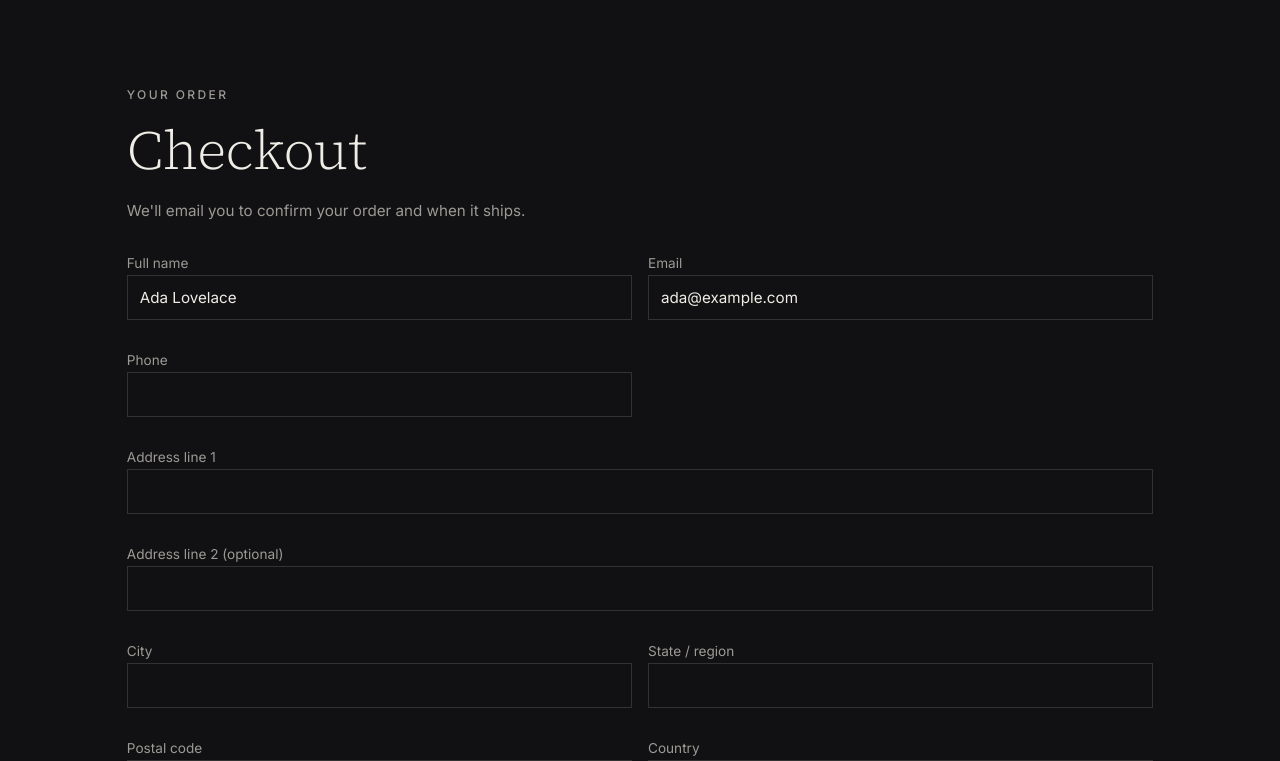
Test: CheckoutPage › navigates to /thanks/<uuid> using the id returned by createOrder
This screenshot has width=1280, height=761.
expect the field labelled "Full name" holds "Ada Lovelace": met, box [127,275,632,320]
Type "555-0100" into the field labelled "Phone". click: (379,395)
box: [127,372,632,417]
Type "1 Analytical Engine Way" into the field labelled "Address line 1". click: (640,492)
box: [127,469,1153,514]
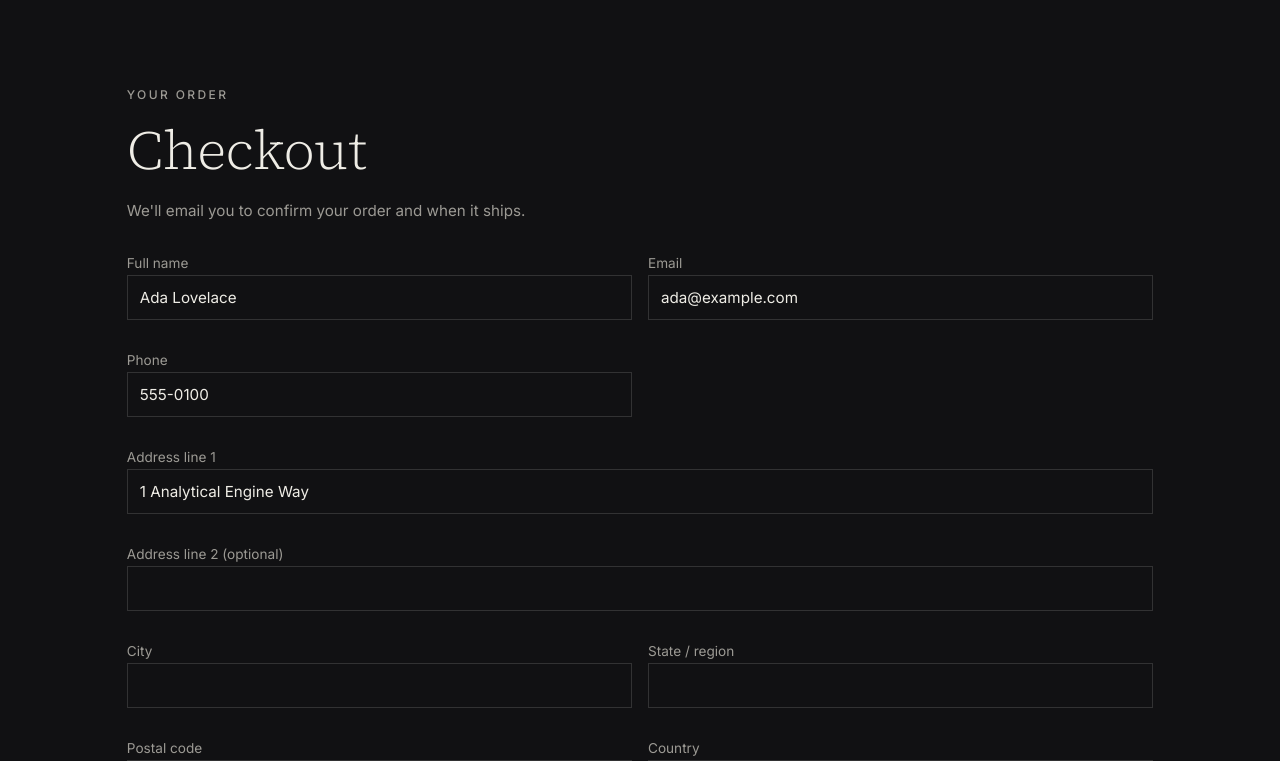
Type "London" into the field labelled "City". click: (379,686)
box: [127,663,632,708]
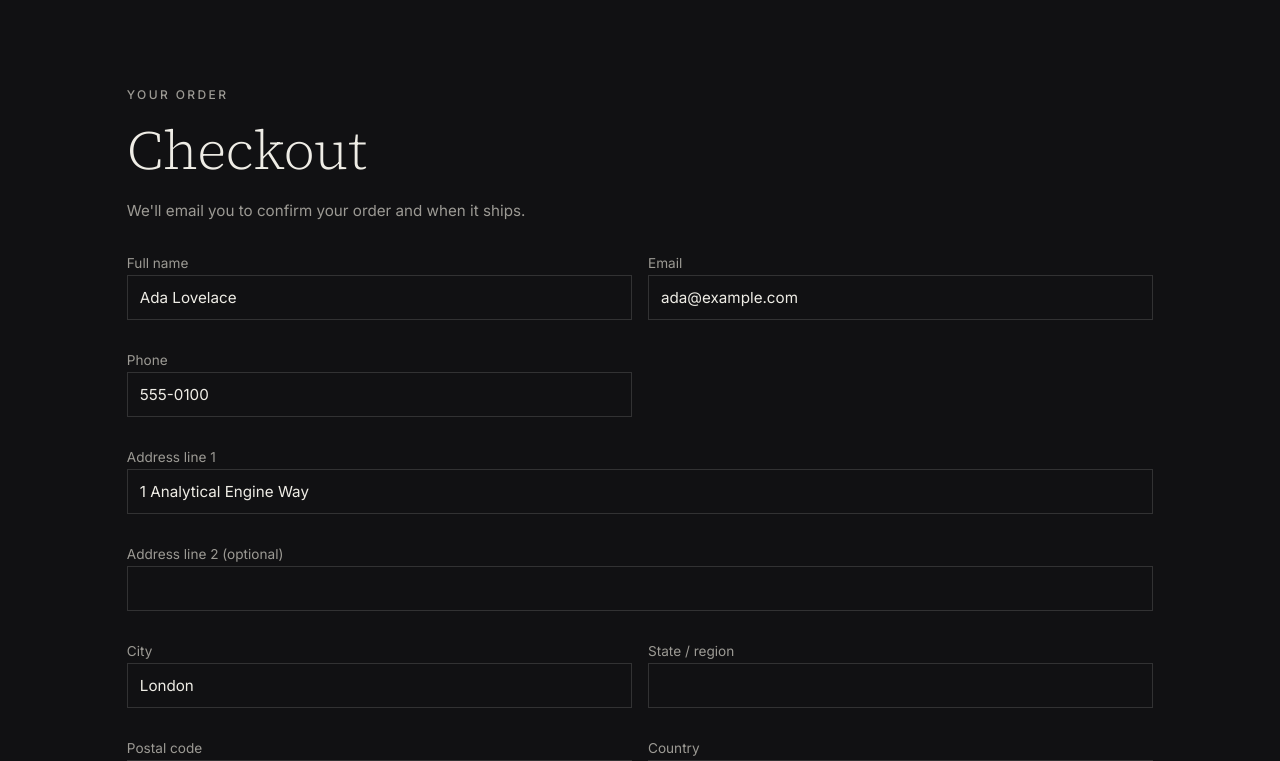
Type "LDN" into the field labelled "State / region". click: (901,686)
box: [648,663,1153,708]
(page scrolled)
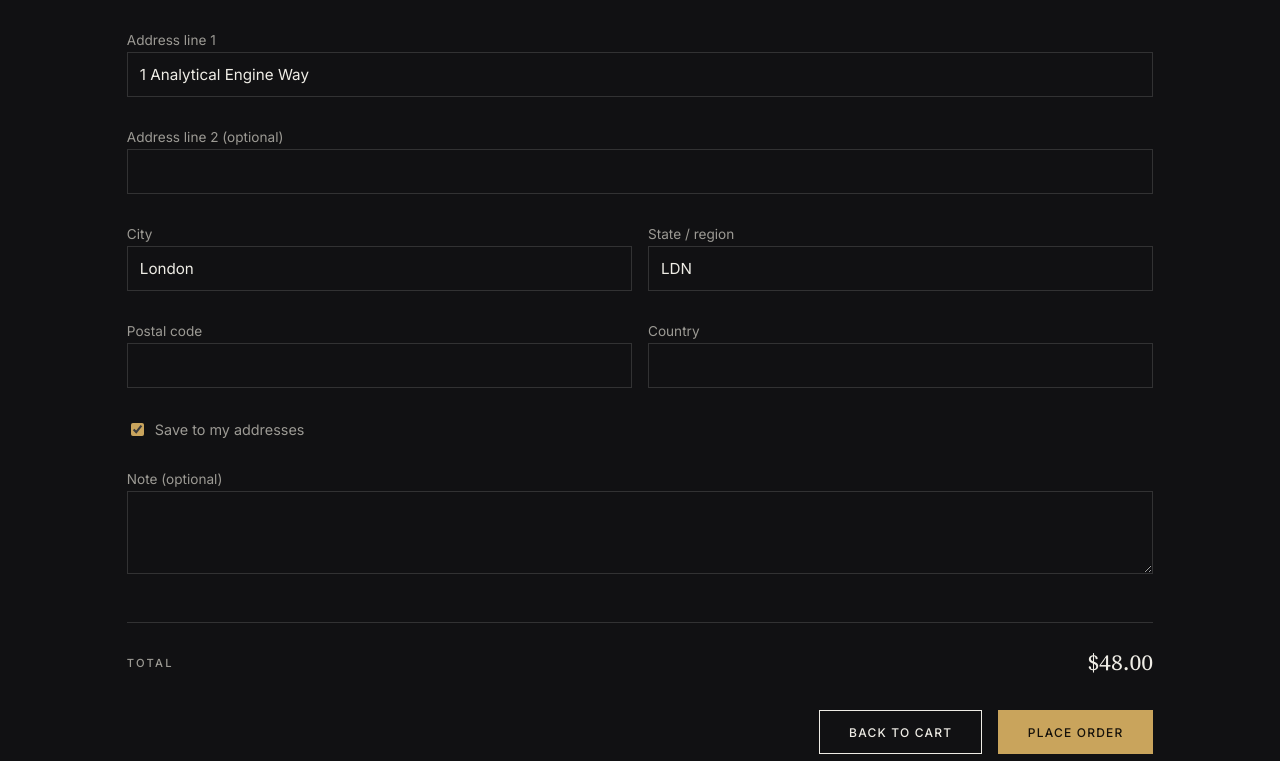
Type "W1A 1AA" into the field labelled "Postal code". click: (379,366)
box: [127,343,632,388]
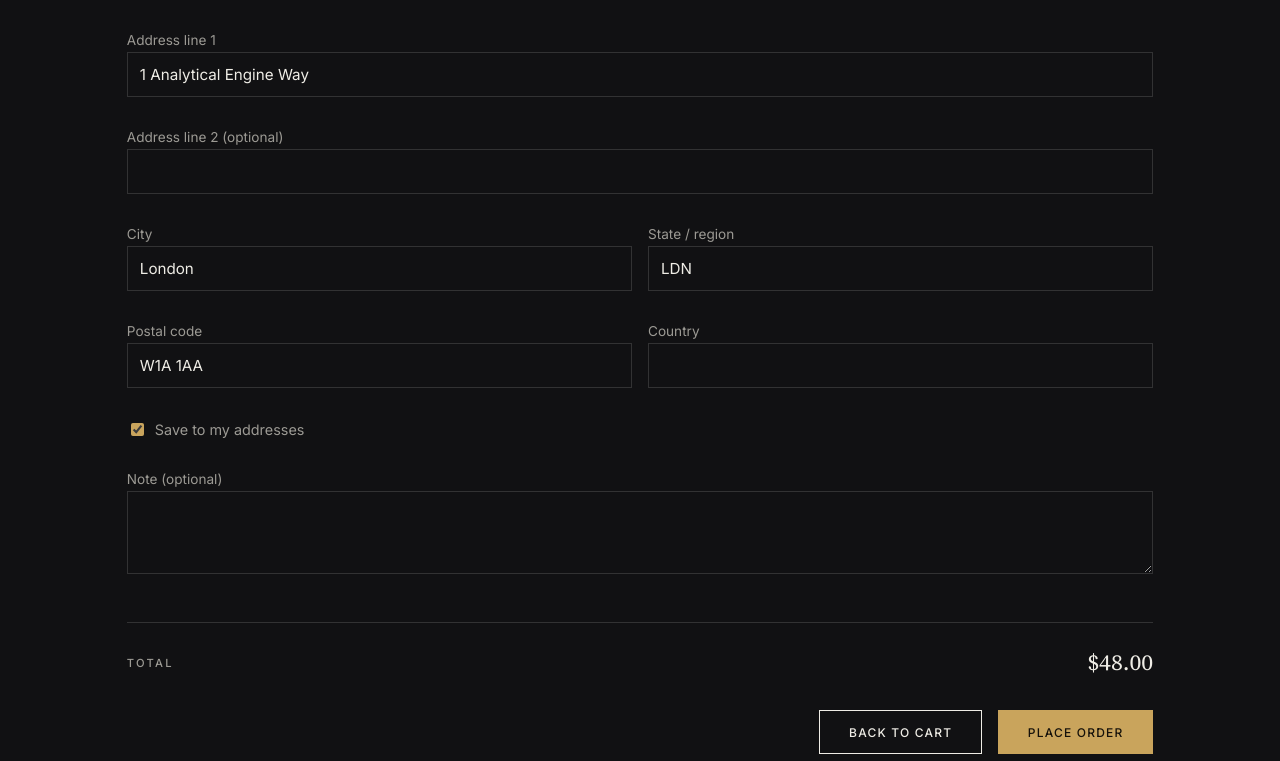
Type "UK" into the field labelled "Country". click: (901,366)
box: [648,343,1153,388]
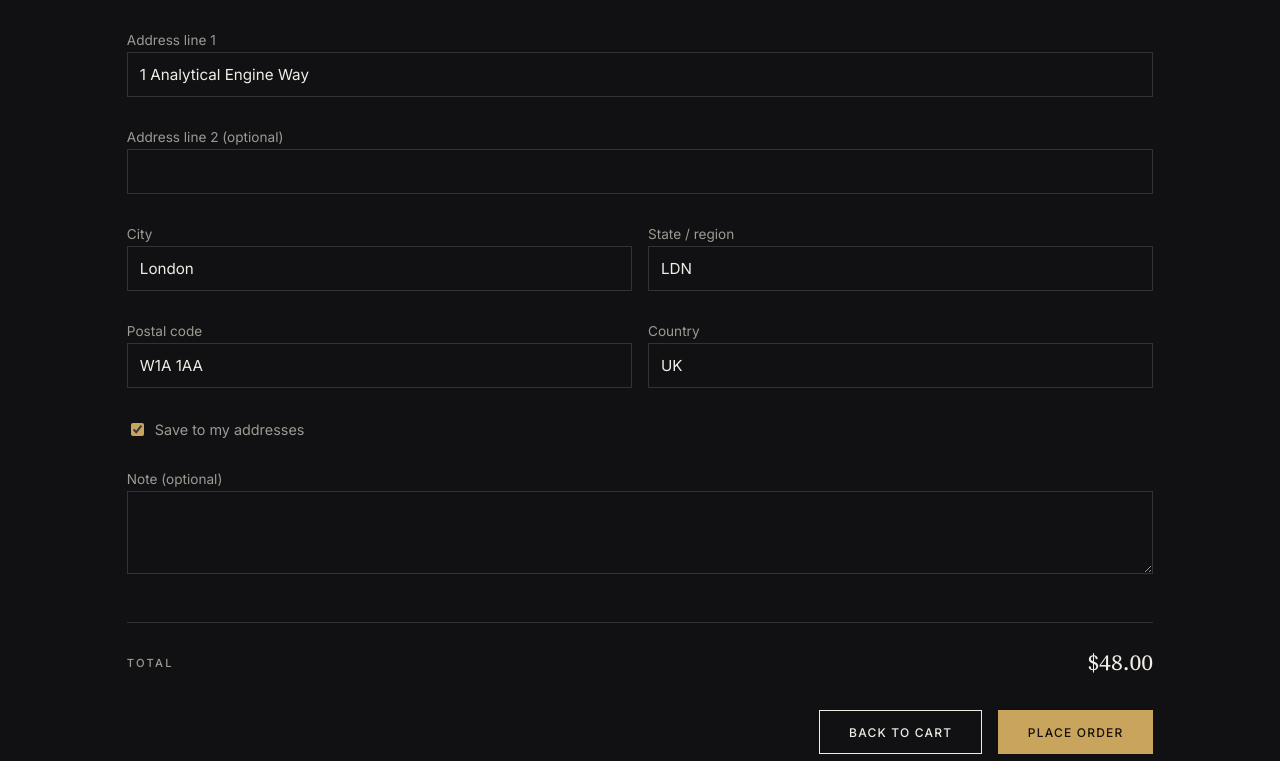
Click the button "Place order". click: (1076,732)
box: [998,710,1153,754]
(page scrolled)
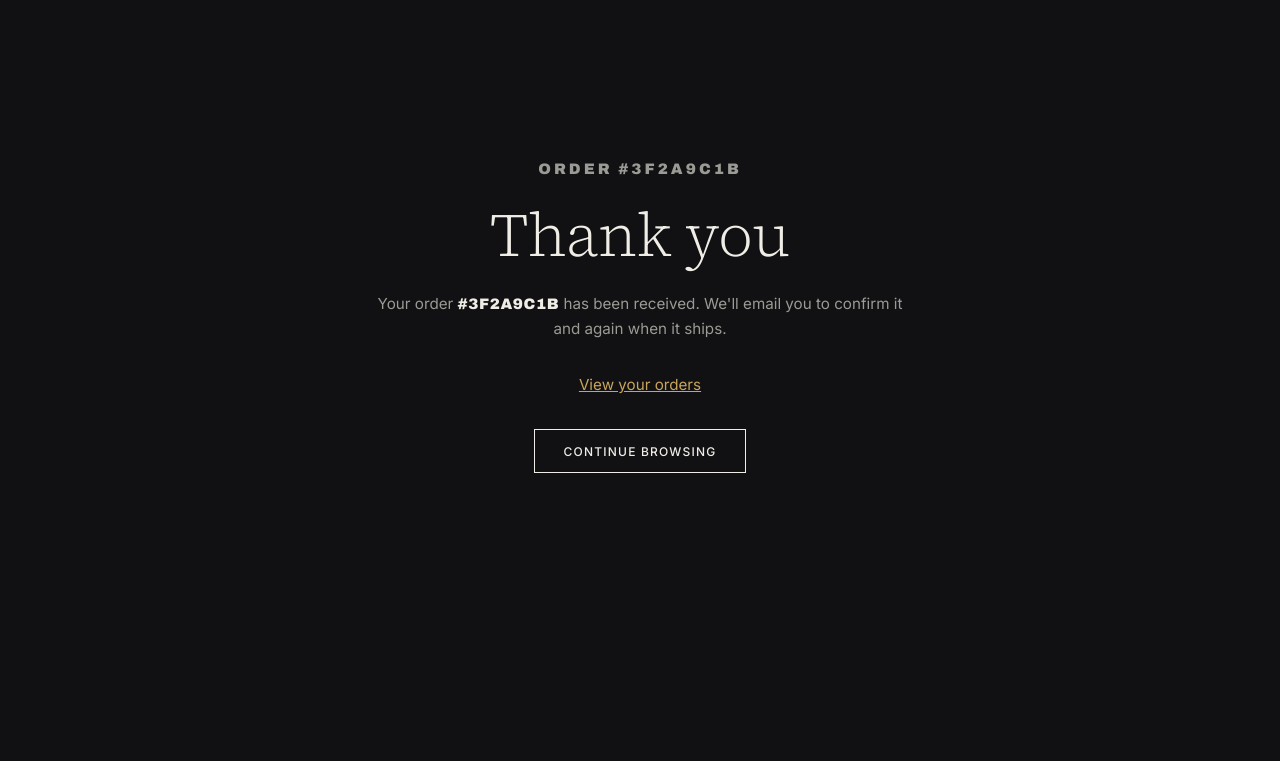
expect the text "#3F2A9C1B" is shown: met, box [458,296,559,312]
